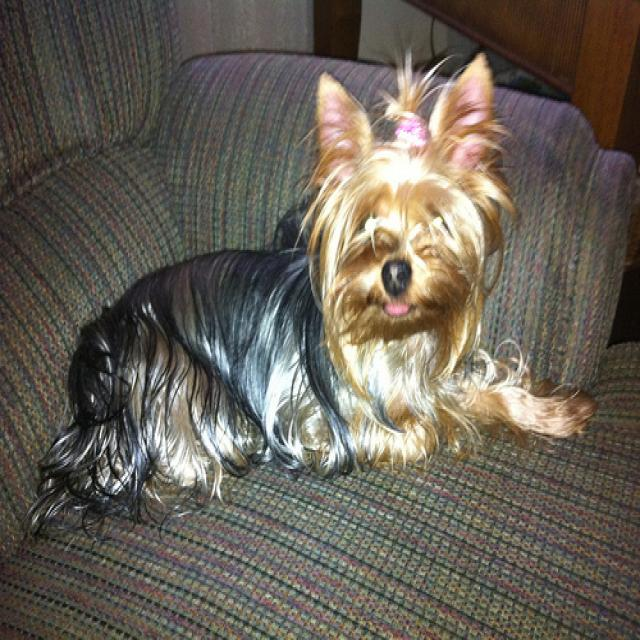dog-yorkshire_terrier: (23, 34, 603, 541)
